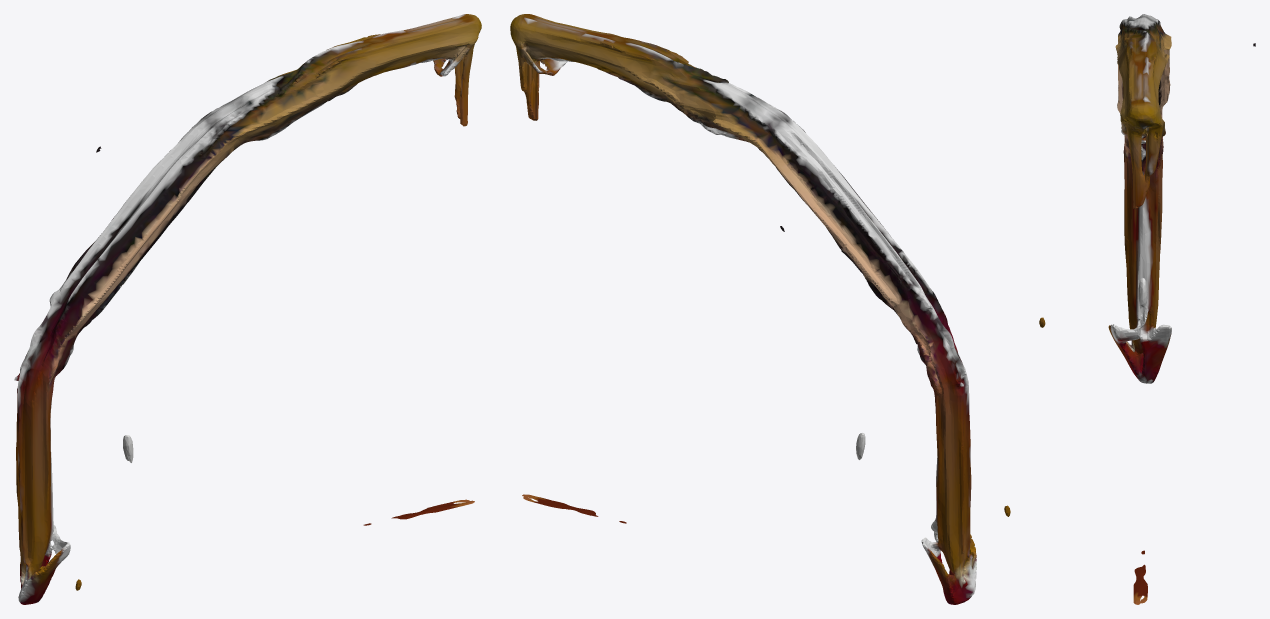
The model's file is bow.glb.
3 renders of one model, left to right at view 1: azimuth 30°, elevation 25°; view 2: azimuth 150°, elevation 25°; view 3: azimuth 270°, elevation 25°, orthographic. The views are drawn at different scales.
Parts seen in each view (by area): view 1: geometry_0; view 2: geometry_0; view 3: geometry_0.
Boxes of the visible parts, bbox=[...] form: geometry_0: bbox=[14, 14, 481, 604]; geometry_0: bbox=[510, 14, 1010, 604]; geometry_0: bbox=[1039, 14, 1255, 604].
Bounding box in the file's own units: 0.8125 × 0.8132 × 0.3189.
